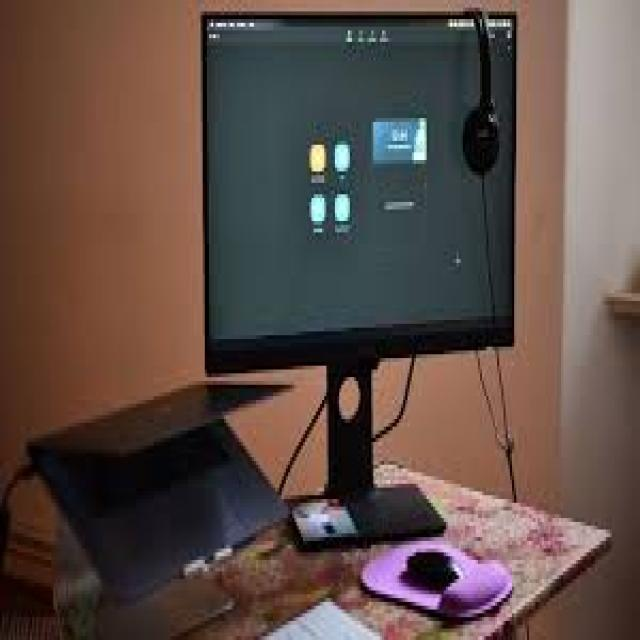komputer: (206, 7, 517, 535)
laptop: (26, 384, 288, 593)
